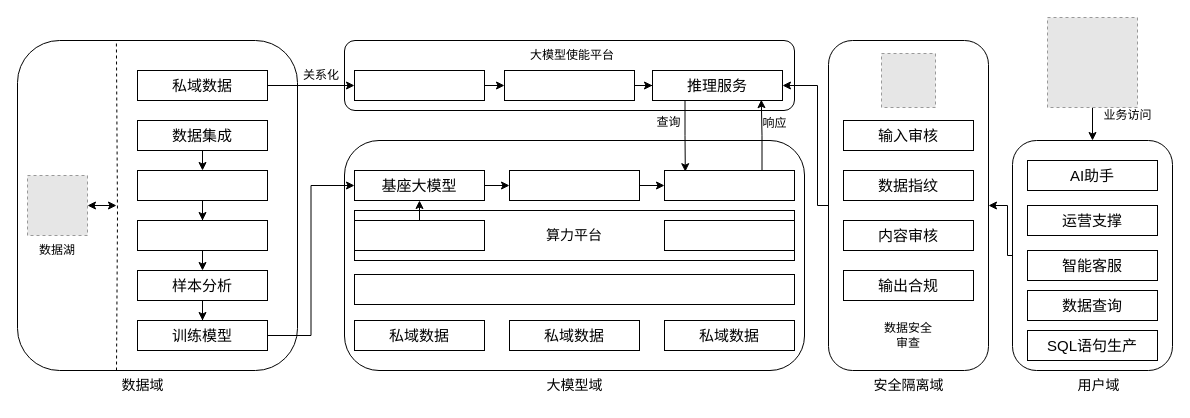
Image size: 1190x418. Some labels were removed from this diagram. Grey dashed boxes stand in for pictures. Each missing label, with the centre of its shape:
"专属大模型" belongs at (729,185).
"云平台" belongs at (574,289).
"向量数据库" belongs at (569,85).
"大模型微调" belongs at (574,185).
"数据增强" belongs at (202,235).
"数据预处理" belongs at (202,185).
"模型推理" belongs at (729,235).
"模型训练" belongs at (419,235).
"私域知识库" belongs at (419,85).
